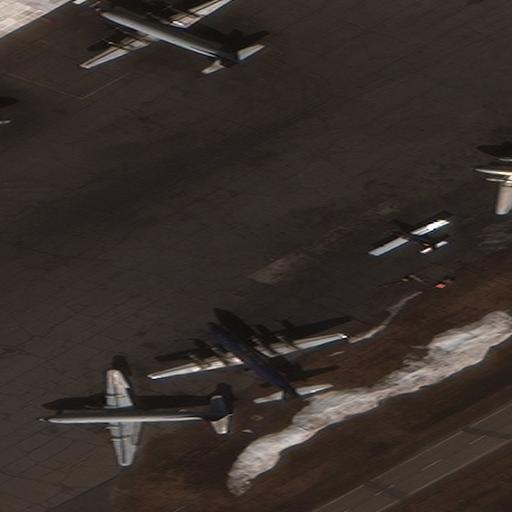Large Civil Transport: (38, 371, 231, 466), (78, 0, 239, 66)
Medium Civil Transport: (144, 323, 340, 398), (471, 148, 512, 214), (367, 218, 438, 253)
